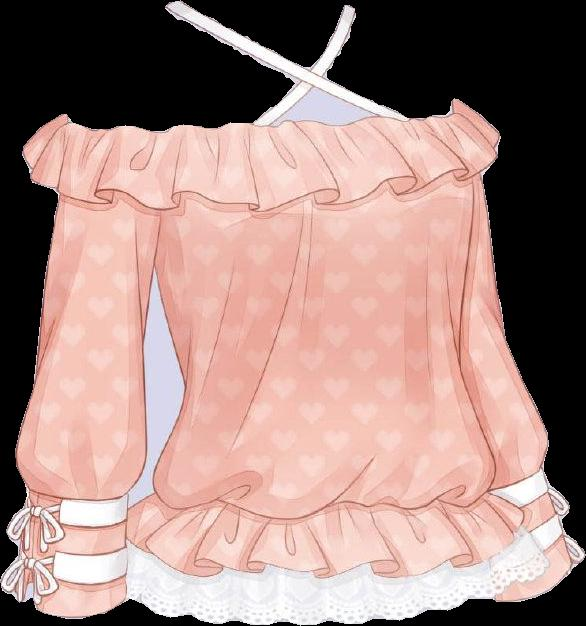Bodice: (22, 95, 552, 624)
Neckline: (55, 95, 497, 523)
Sleeve: (0, 197, 157, 618), (463, 173, 584, 585)
Sleeveline: (26, 484, 132, 504), (494, 467, 544, 493), (149, 211, 162, 274)
Waistline: (126, 512, 558, 625)
